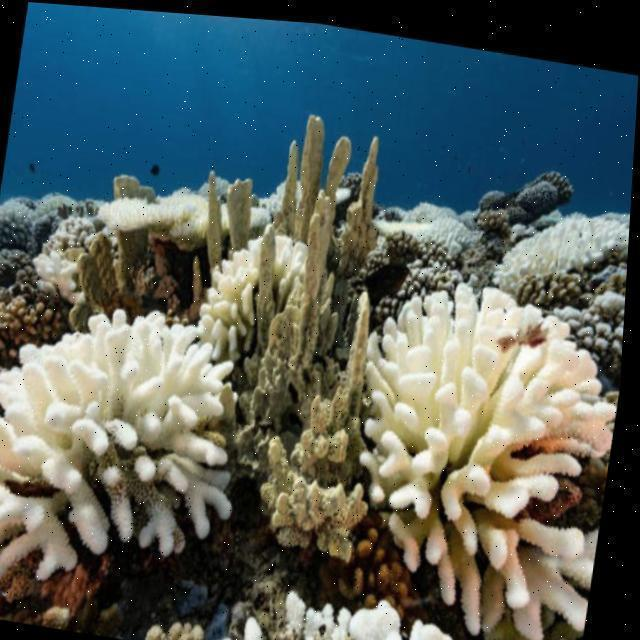Bleached Coral: (0, 112, 628, 640)
